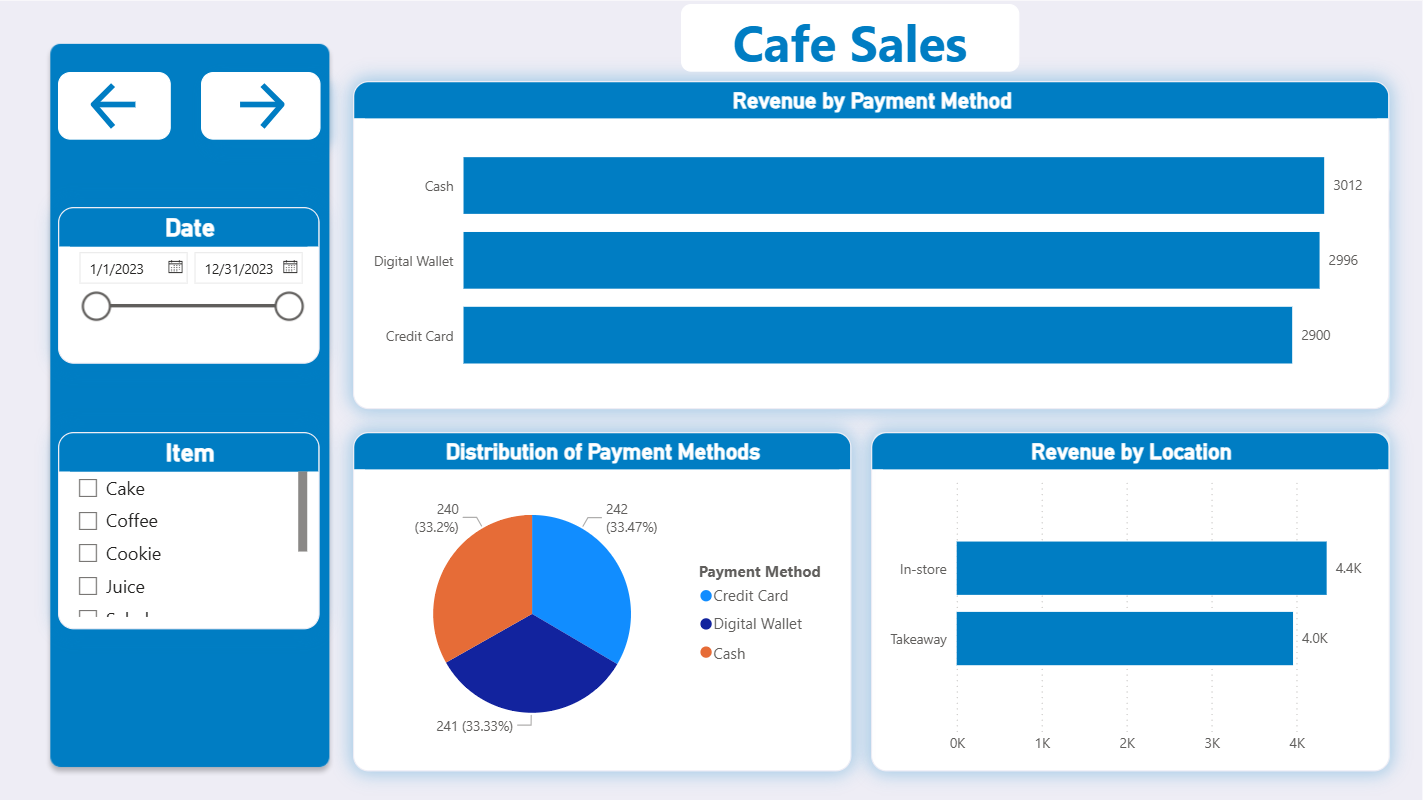

This screenshot's page, from the dashboard's own definition file:
{"tool":"powerbi","page":{"name":"Sales Distribution Analysis","canvas":[1280,720],"ordinal":1},"visuals":[{"type":"image","box":[0,0,1280,719.8],"z":0},{"type":"clusteredBarChart","title":"Revenue by Location","fields":{"Y":["Sum(dirty_cafe_sales.Total_Spent)"],"Category":["dirty_cafe_sales.Location"]},"box":[782,387.1,460.1,300.5],"z":1000},{"type":"pieChart","title":"Distribution of Payment Methods","fields":{"Category":["dirty_cafe_sales.Payment Method"],"Y":["CountNonNull(dirty_cafe_sales.Transaction ID)"]},"box":[322.9,387.1,441.6,300.5],"z":2000},{"type":"clusteredBarChart","title":"Revenue by Payment Method","fields":{"Y":["Sum(dirty_cafe_sales.Total_Spent)"],"Category":["dirty_cafe_sales.Payment Method"]},"box":[322.9,75.9,919.1,290.8],"z":3000},{"type":"slicer","title":"Date","fields":{"Values":["dirty_cafe_sales.Transaction Date"]},"box":[61.3,187.7,232.5,139.1],"z":4000},{"type":"slicer","title":"Item","fields":{"Values":["dirty_cafe_sales.Item"]},"box":[61.3,387.1,232.5,175.1],"z":5000},{"type":"actionButton","box":[187.7,68.1,106,60.3],"z":6000},{"type":"actionButton","box":[61.3,68.1,100.2,60.3],"z":7000},{"type":"shape","box":[613.7,7.8,299.6,60.3],"z":7001}]}

Visuals, with their boxes in screenshot pixels (x1, y1, x2, y2), scaled from the page's 1280x720 canvas onto the 1423x800 screenshot:
image: (0,0,1422,799)
"Revenue by Location" clusteredBarChart: (869,430,1381,764)
"Distribution of Payment Methods" pieChart: (359,430,850,764)
"Revenue by Payment Method" clusteredBarChart: (359,84,1381,407)
"Date" slicer: (68,209,327,363)
"Item" slicer: (68,430,327,625)
actionButton: (209,76,327,143)
actionButton: (68,76,180,143)
shape: (682,9,1015,76)
